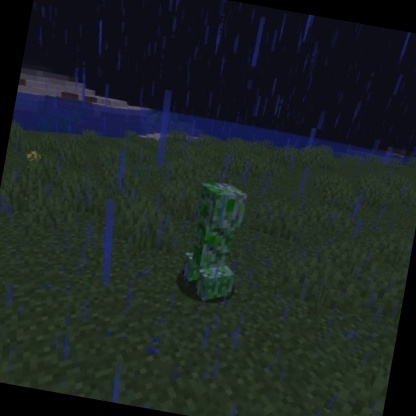creeper: (171, 174, 256, 309)
